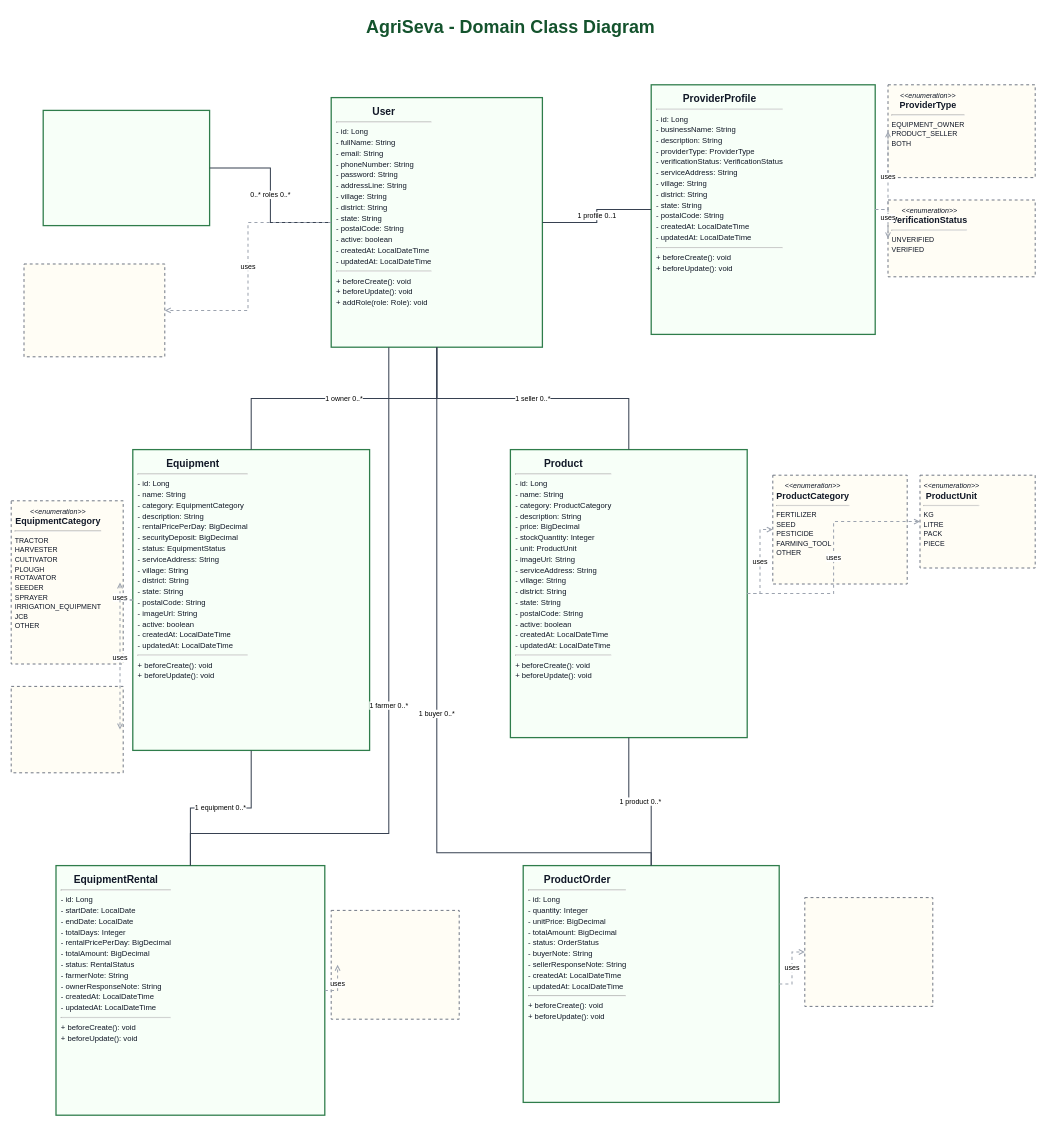
The diagram is 1047 pixels wide and 1126 high, and some of its shapes have lost their labels. Here are the shapes that lost their labels. From the top down, the box of each, then its label:
(42, 109, 210, 226): Role - id: Long - name: RoleType + Role(name: RoleType)
(23, 263, 165, 357): <<enumeration>> RoleType FARMER EQUIPMENT_OWNER PRODUCT_SELLER
(10, 686, 123, 773): <<enumeration>> EquipmentStatus AVAILABLE UNAVAILABLE MAINTENANCE
(330, 910, 459, 1019): <<enumeration>> RentalStatus PENDING APPROVED REJECTED CANCELLED COMPLETED
(804, 897, 933, 1007): <<enumeration>> OrderStatus PENDING ACCEPTED REJECTED CANCELLED COMPLETED
